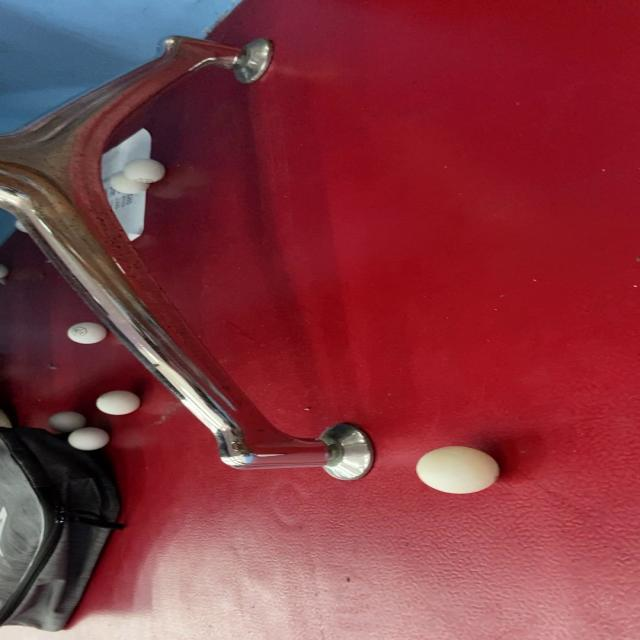ping-pong-ball: (410, 443, 502, 497), (91, 386, 146, 416), (117, 156, 172, 186), (64, 424, 114, 454), (62, 318, 113, 345)
